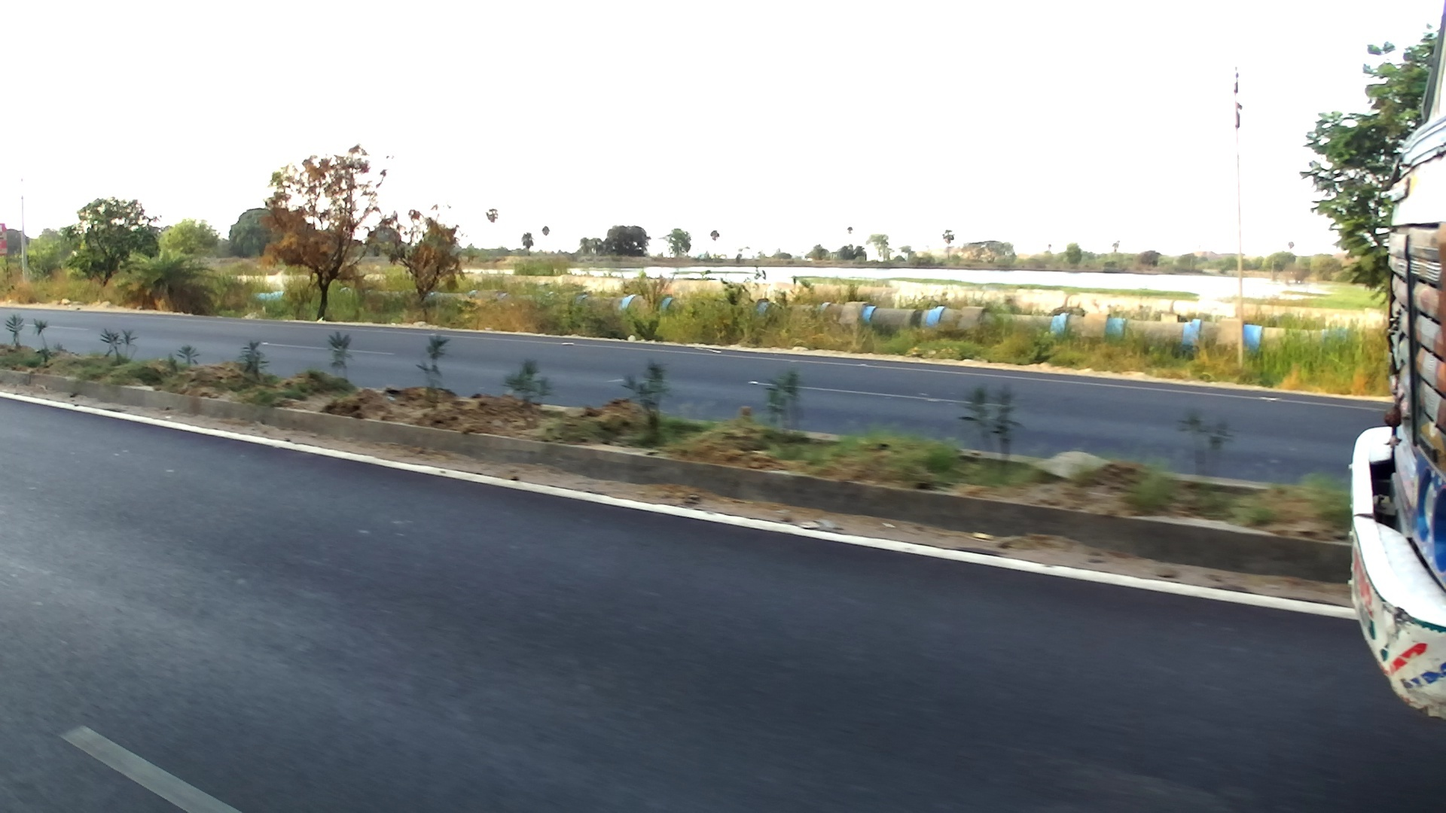vehicle fallback: (1347, 1, 1446, 719)
